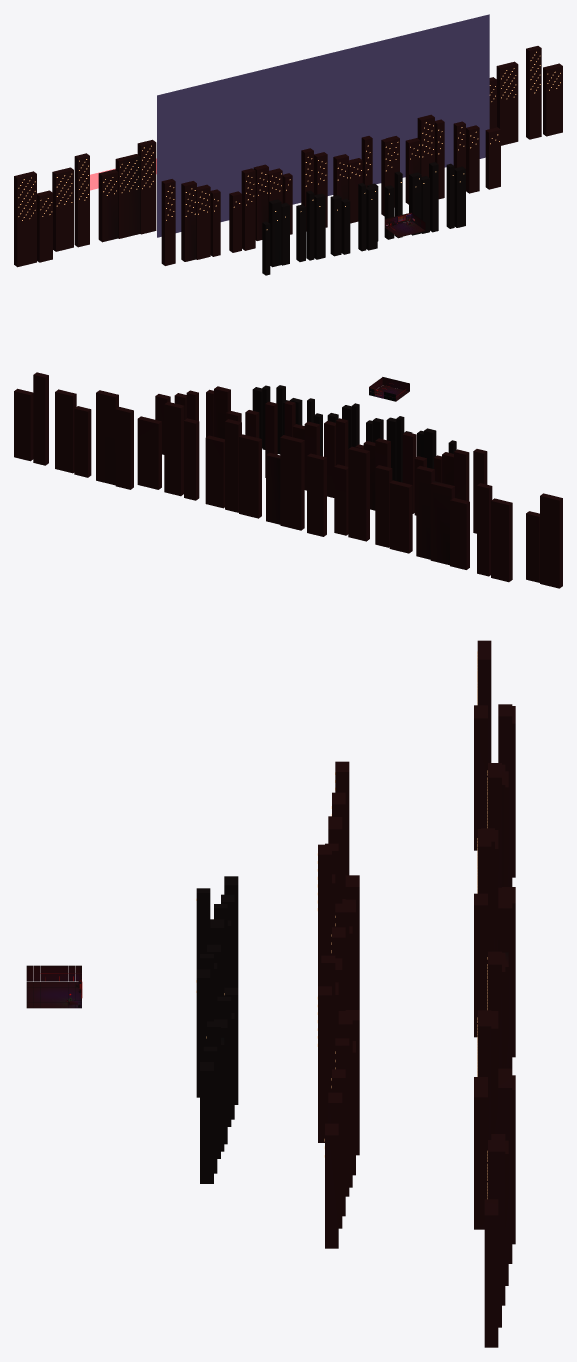
Rendered from lab_room.glb.
3 renders of one model, top to bottom at view 1: azimuth 30°, elevation 25°; view 2: azimuth 150°, elevation 25°; view 3: azimuth 270°, elevation 25°, orthographic. The views are drawn at different scales.
Visible parts, largest first — view 1: room.sky, room.skyline.far, room.skyline, room.city, room.floor; view 2: room.skyline.far, room.skyline; view 3: room.skyline.far, room.skyline, room.floor, room.walls.
Boxes of the visible parts, <box> form: room.sky: <box>157,14,489,237</box>; room.skyline.far: <box>14,46,562,267</box>; room.skyline: <box>262,162,465,275</box>; room.city: <box>18,51,560,229</box>; room.floor: <box>385,221,425,237</box>; room.skyline.far: <box>14,372,562,588</box>; room.skyline: <box>252,385,456,482</box>; room.skyline.far: <box>318,640,515,1347</box>; room.skyline: <box>196,876,238,1183</box>; room.floor: <box>26,982,81,1008</box>; room.walls: <box>26,965,81,981</box>.
Bounding box in the file's own units: 362 × 100 × 151.
